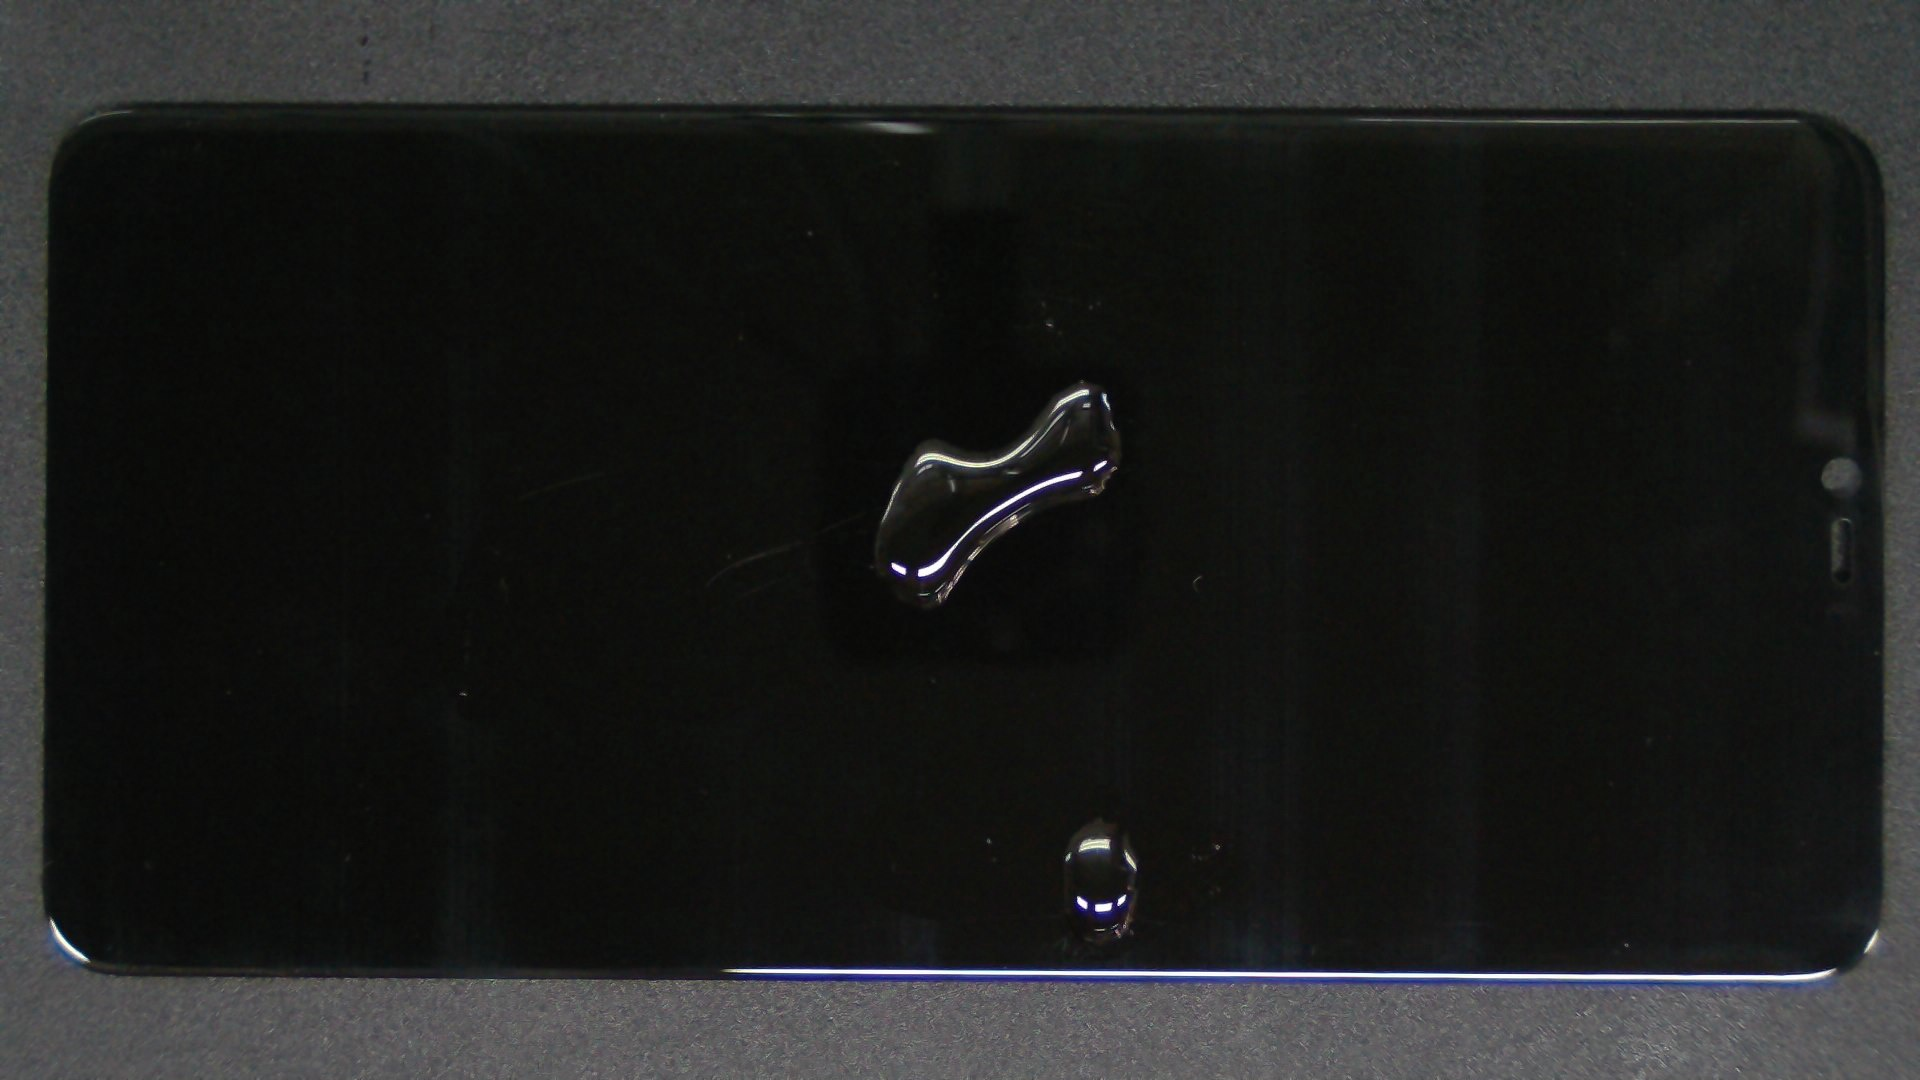oil: (551, 406, 1644, 1080), (542, 189, 1622, 568)
